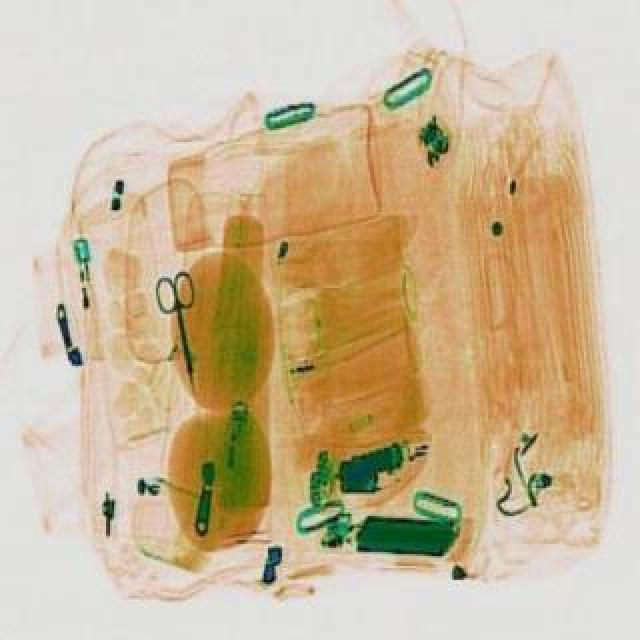pliers: (150, 268, 214, 394)
